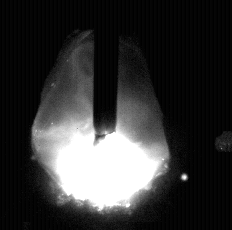arame: (94, 0, 118, 145)
poca: (31, 0, 168, 230)
